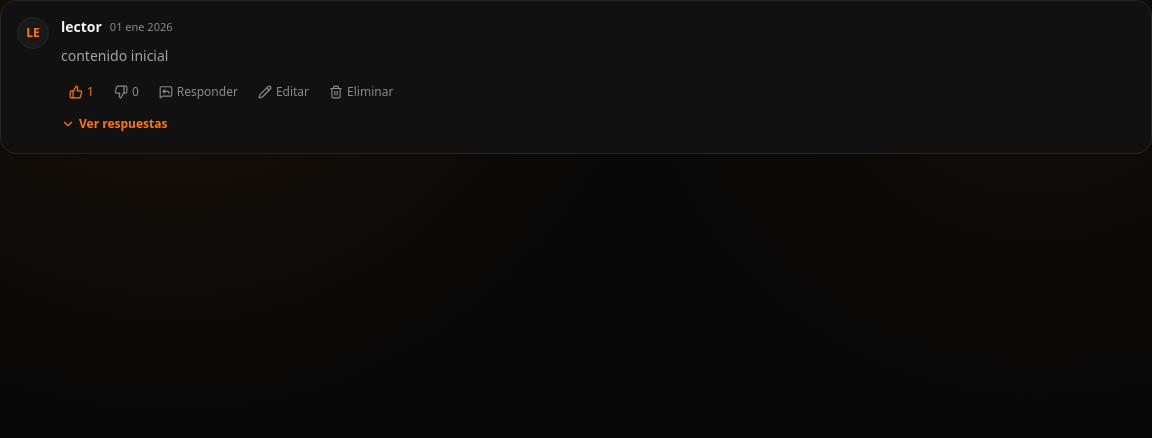
Test case: CommentItem › deduplica respuestas repetidas entre cursores y conserva el orden recibido
Click the button "Ver respuestas" at (114, 124), box [61,116,168,132]
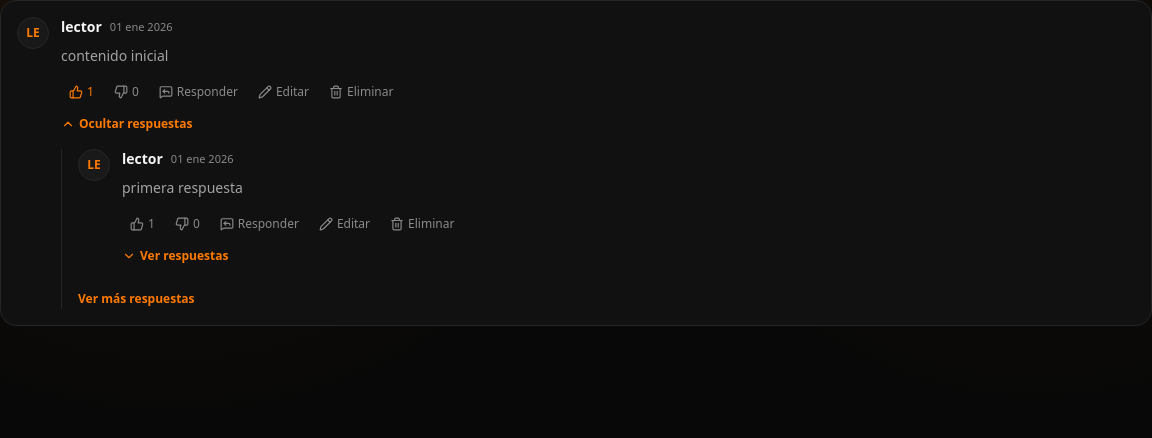
Result: the text "primera respuesta" is shown at [122,178,243,197]
Click the button "Ver más respuestas" at (136, 298), box [78,290,195,306]
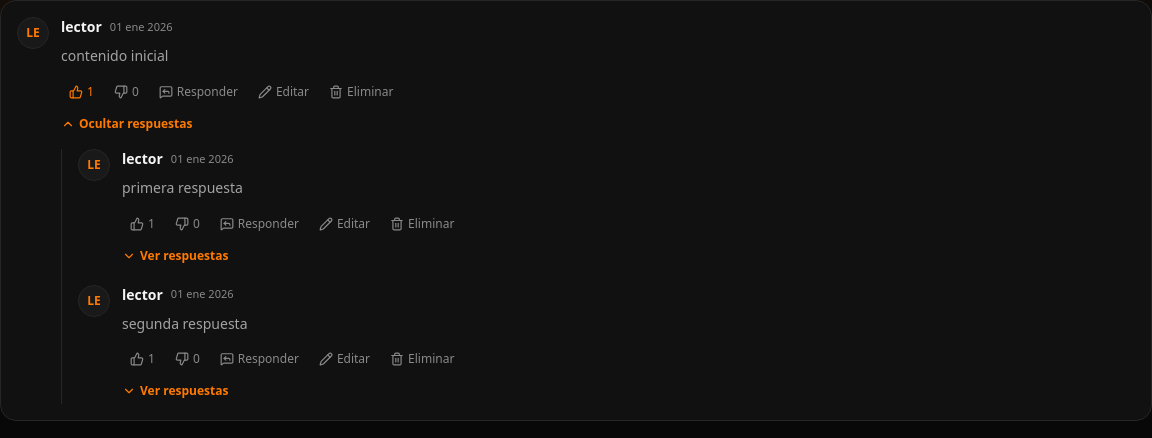
Expected: the text "primera respuesta" is shown once, [122,178,243,197]
Result: the text "segunda respuesta" is shown at [122,314,248,332]
